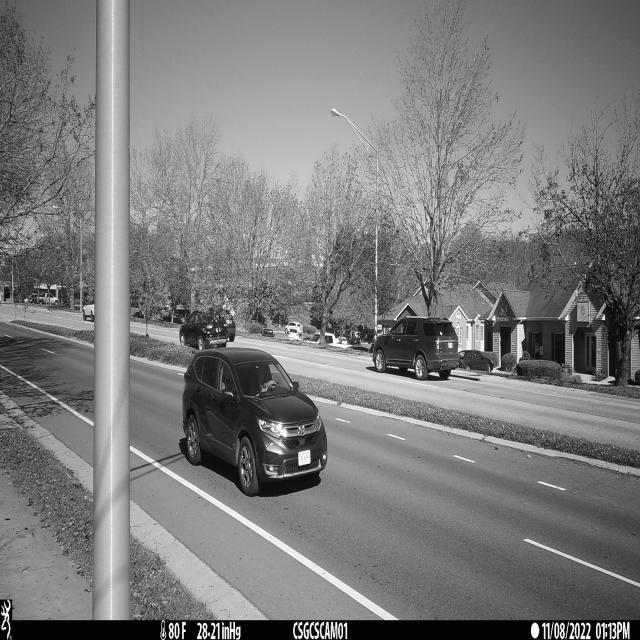SUV: (181, 343, 329, 497)
